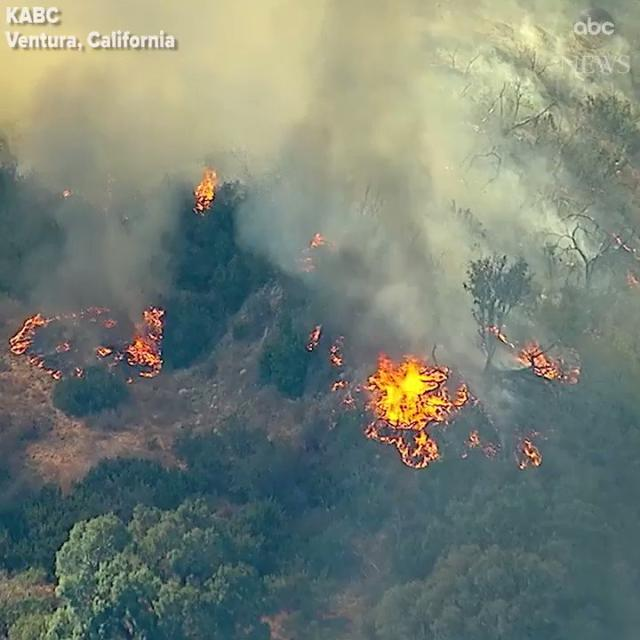Fire: (338, 334, 576, 490), (1, 288, 186, 396), (172, 144, 248, 238)
Smoke: (255, 0, 552, 323), (5, 60, 169, 286)
